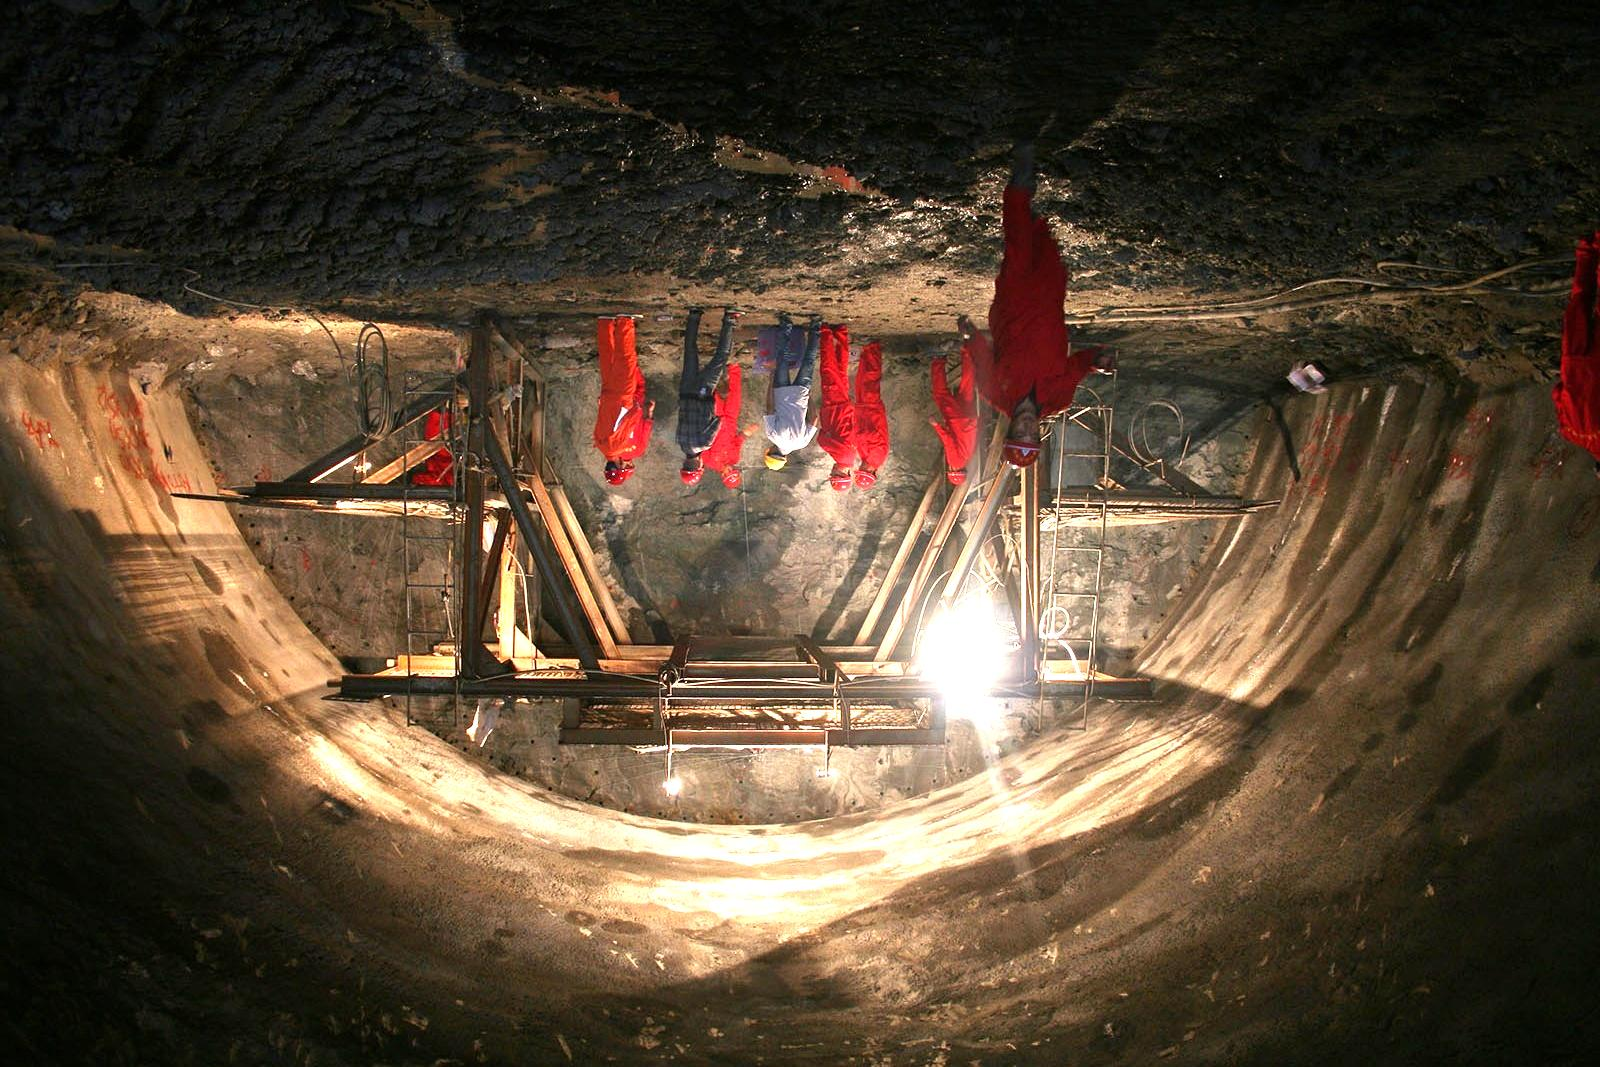helmet: (1002, 410, 1043, 467), (679, 457, 705, 485), (829, 463, 852, 493), (604, 458, 629, 486), (854, 462, 879, 489), (763, 444, 787, 472), (943, 463, 968, 485), (720, 464, 740, 489), (625, 461, 636, 480)
